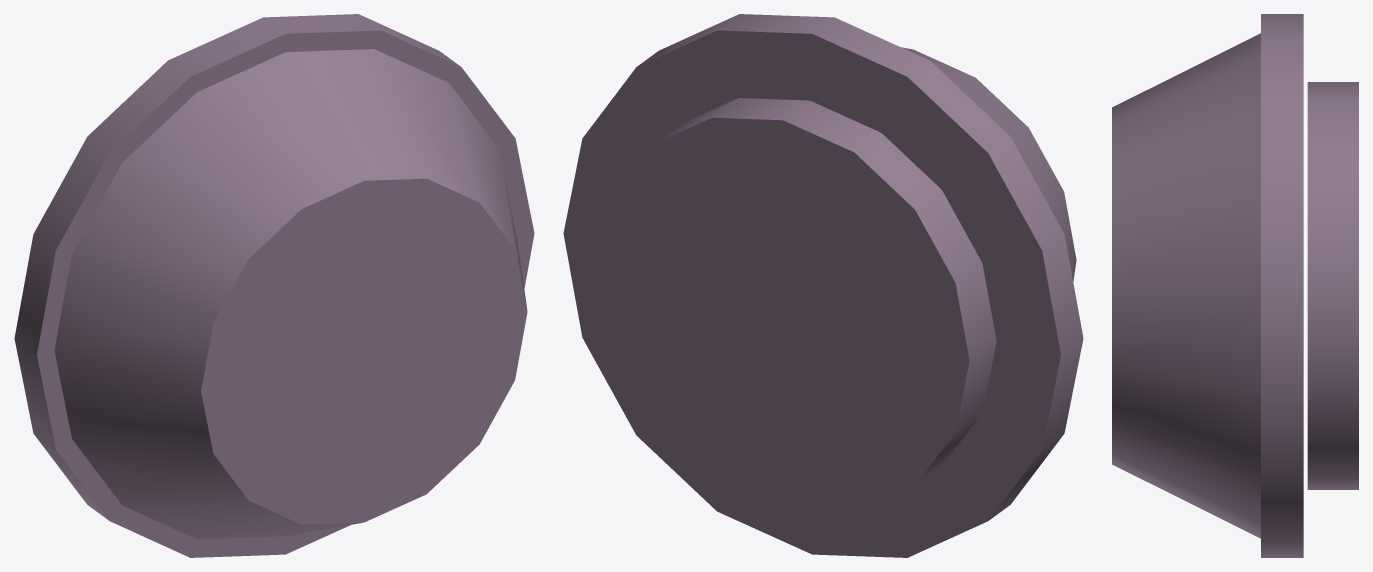
The model's file is plasma_lobber_muzzle.glb.
3 renders of one model, left to right at view 1: azimuth 30°, elevation 25°; view 2: azimuth 150°, elevation 25°; view 3: azimuth 270°, elevation 25°, orthographic. The views are drawn at different scales.
Parts seen in each view (by area): view 1: plasma_lobber_muzzle; view 2: plasma_lobber_muzzle; view 3: plasma_lobber_muzzle.
Boxes of the visible parts, x1,y1,x2,y2 form: plasma_lobber_muzzle: [14, 14, 534, 557]; plasma_lobber_muzzle: [563, 14, 1083, 557]; plasma_lobber_muzzle: [1112, 14, 1358, 557].
Size of the model in its own units: 0.64 by 0.64 by 0.29.
